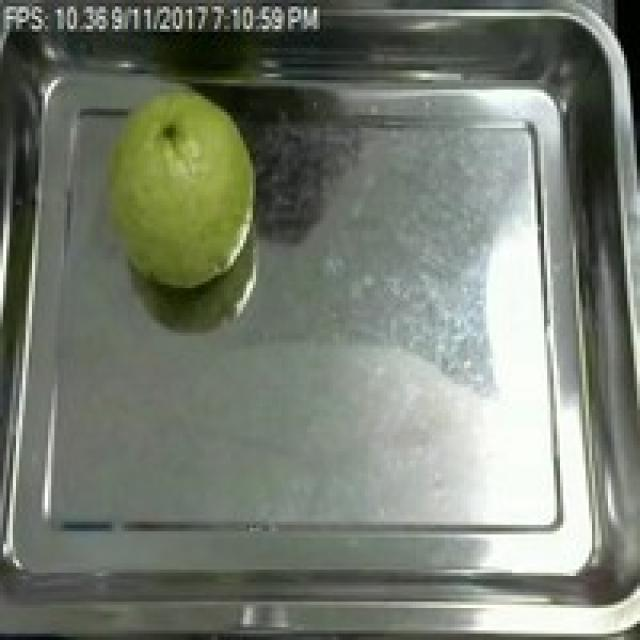Fruit: (87, 77, 266, 301)
